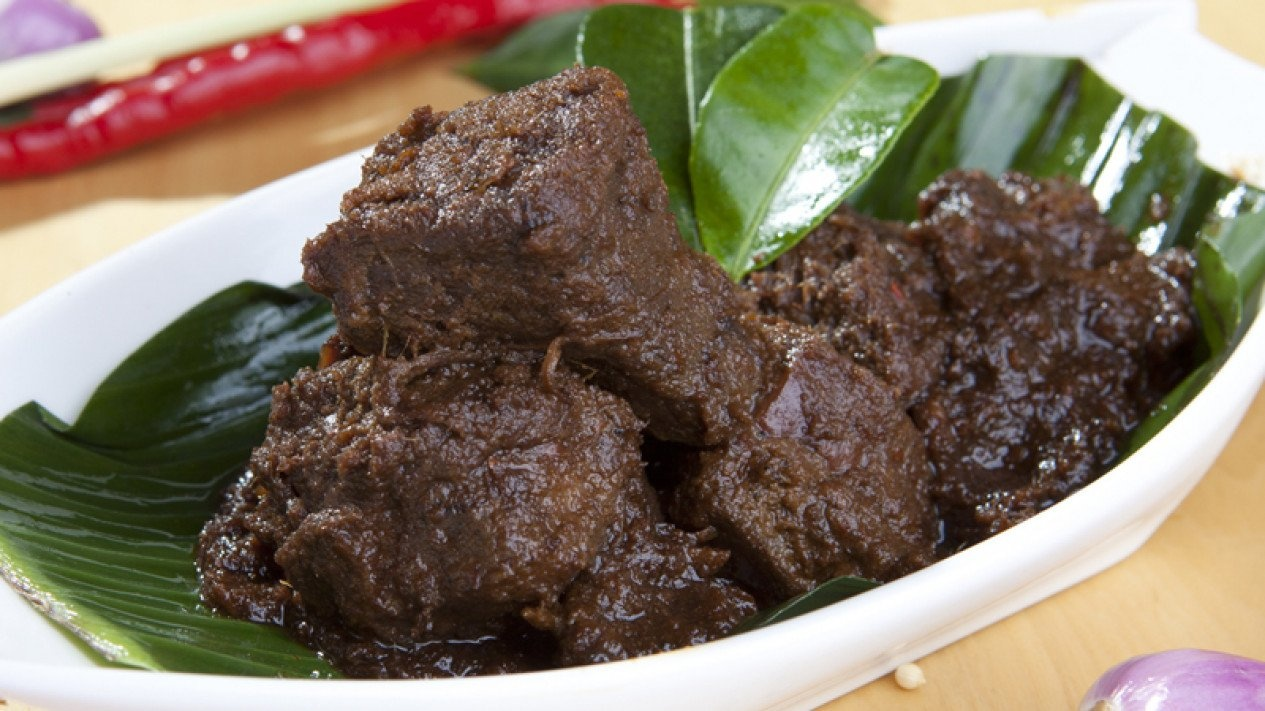rendang: (205, 66, 851, 665)
